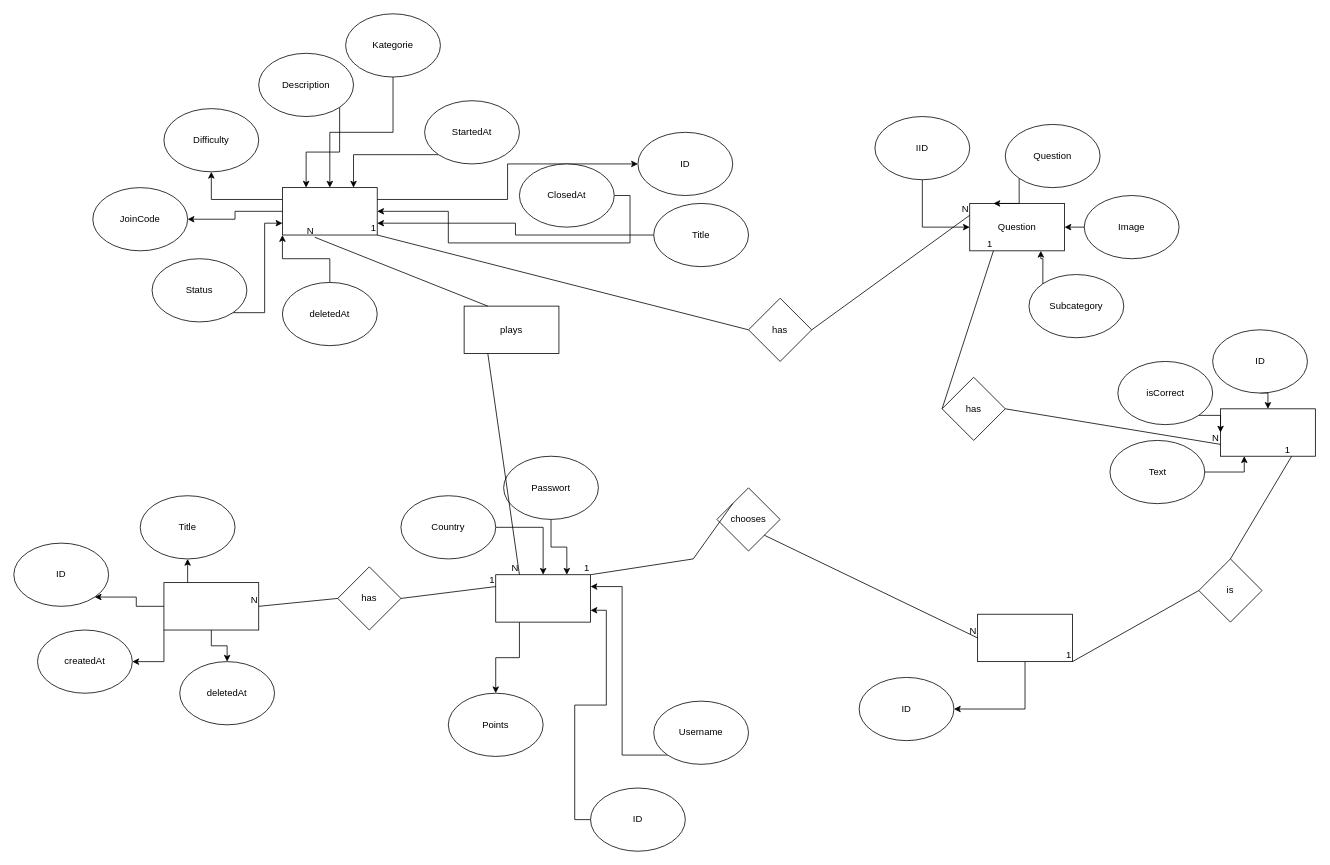
This 1330x865 diagram has some shape labels left out. Each missing label, with the centre of its shape:
Answer: pixel 1267 432
Badges: pixel 211 606
Game: pixel 329 211
PlayerAnswer: pixel 1024 637
User: pixel 543 598
